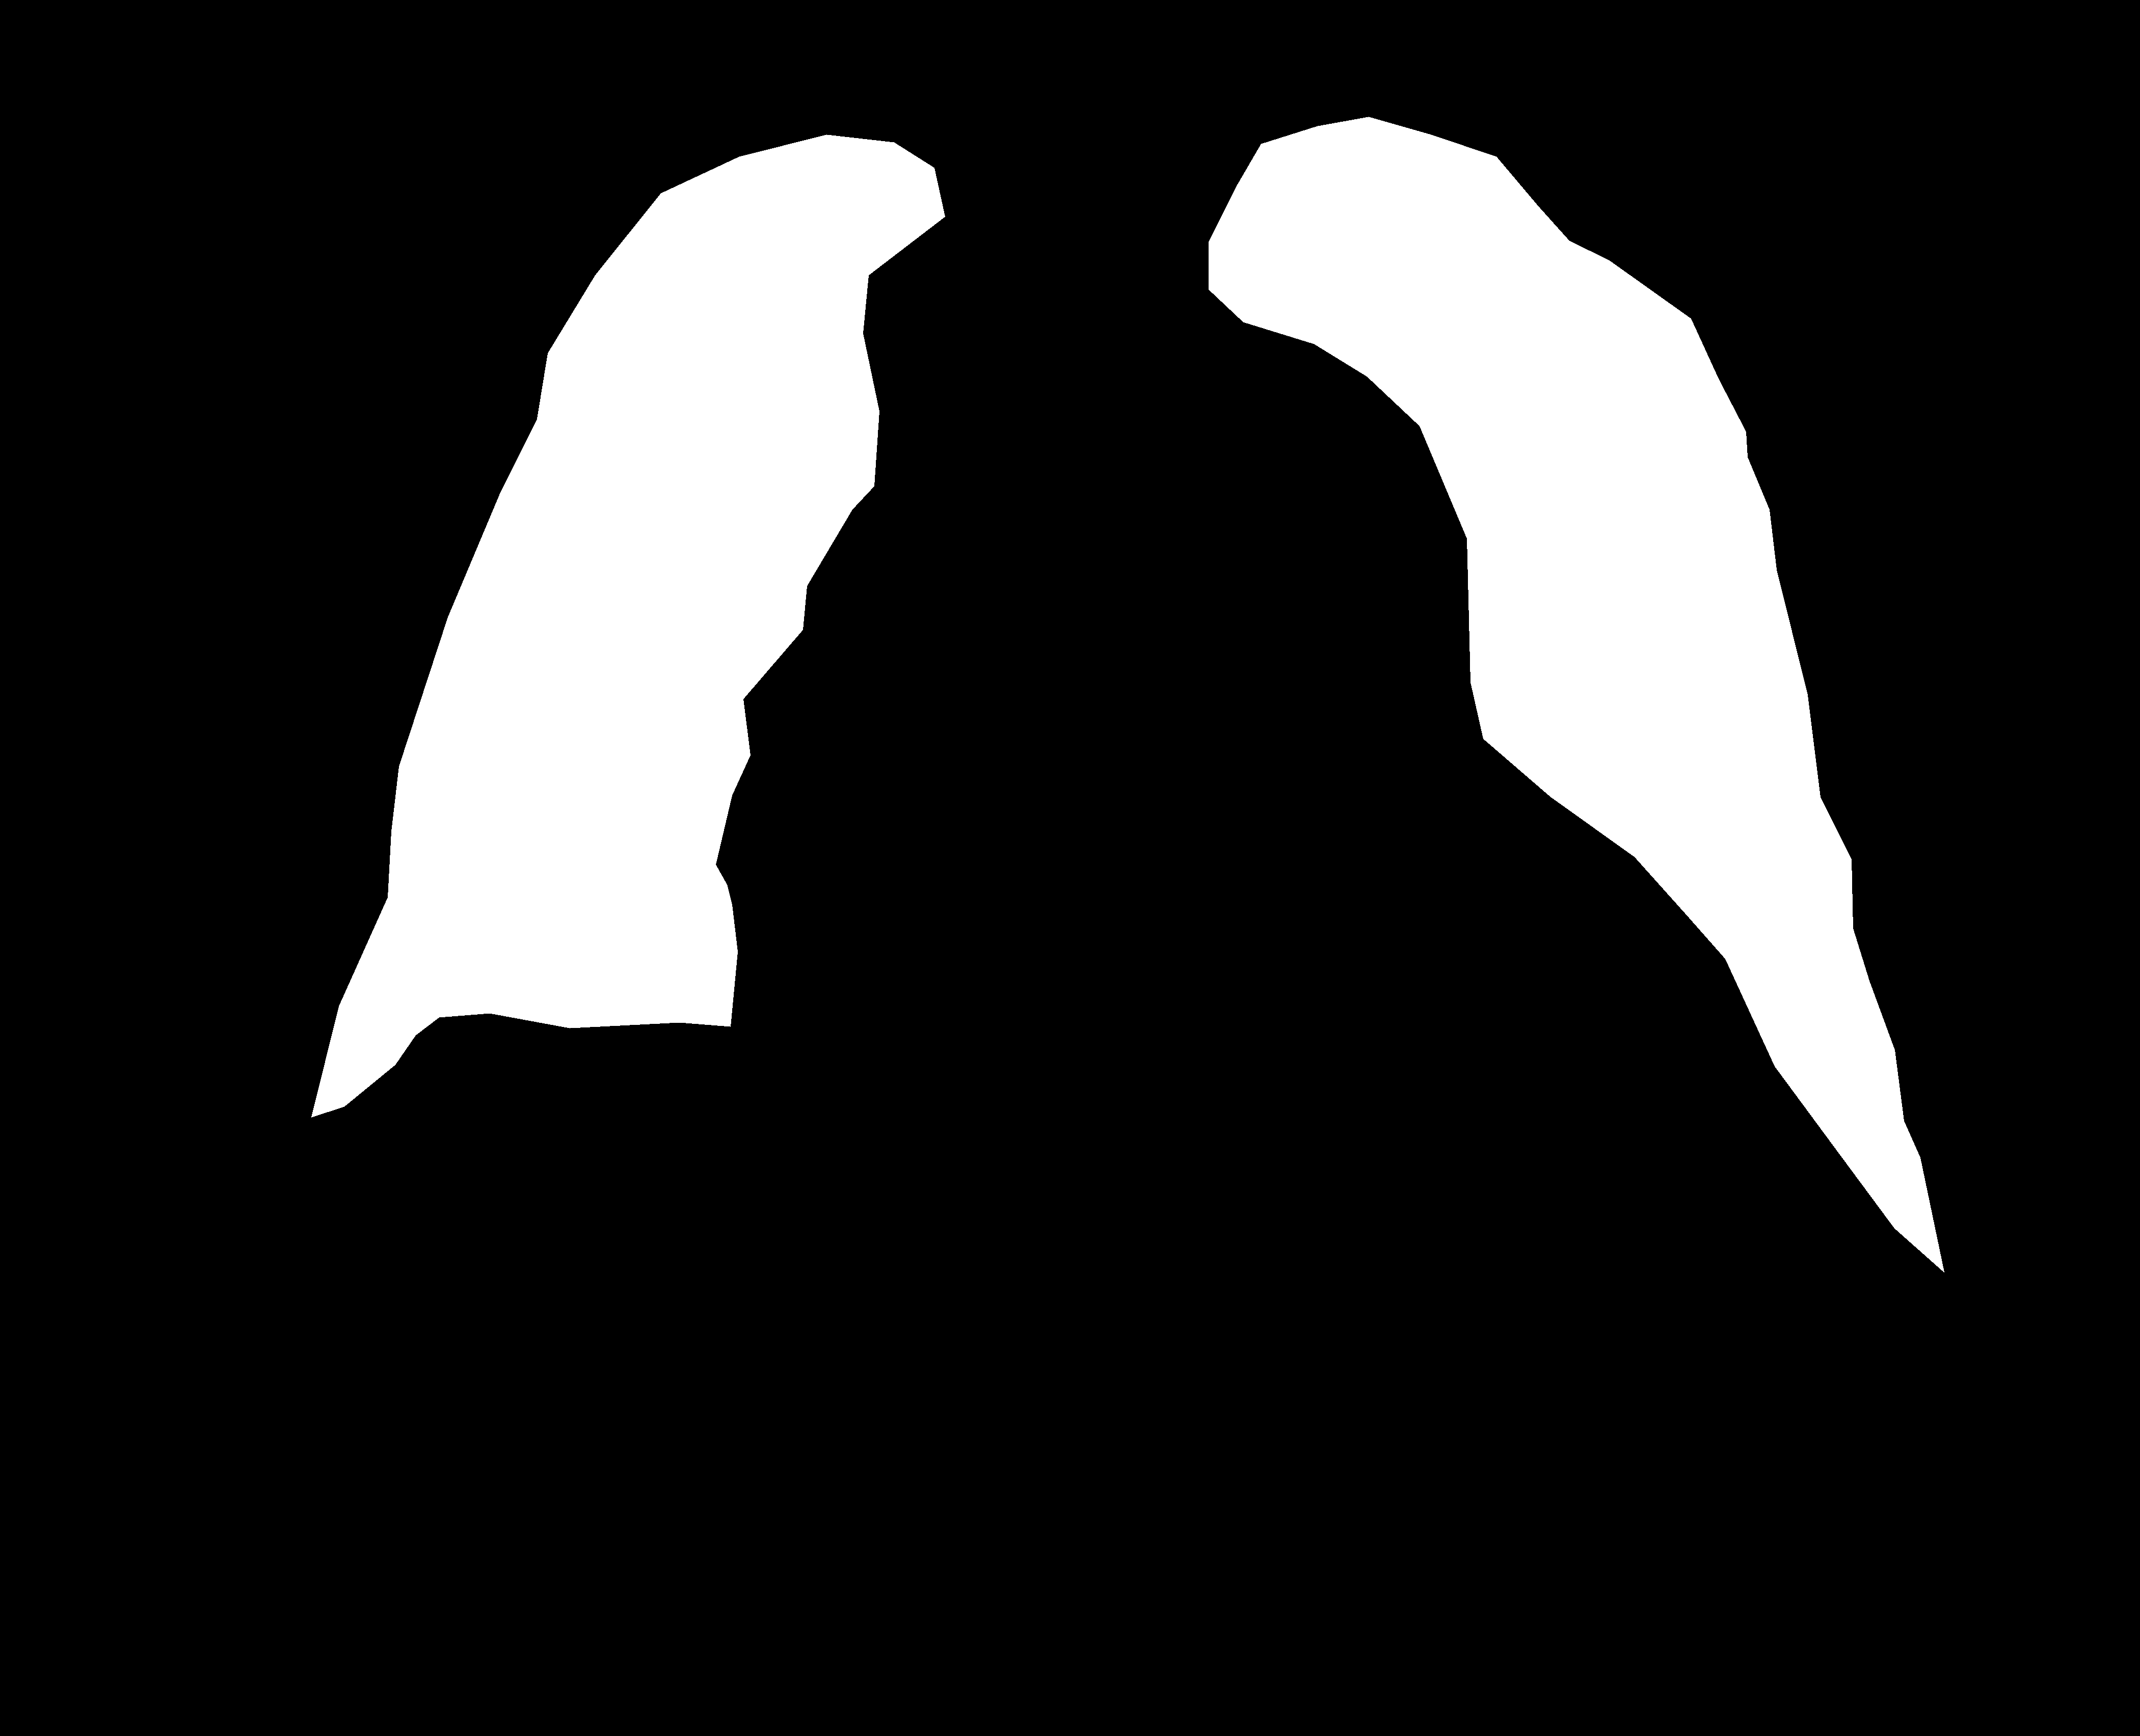heart: (721, 478, 1777, 1153)
left_lung: (312, 135, 944, 1118)
right_lung: (1208, 117, 1943, 1272)
